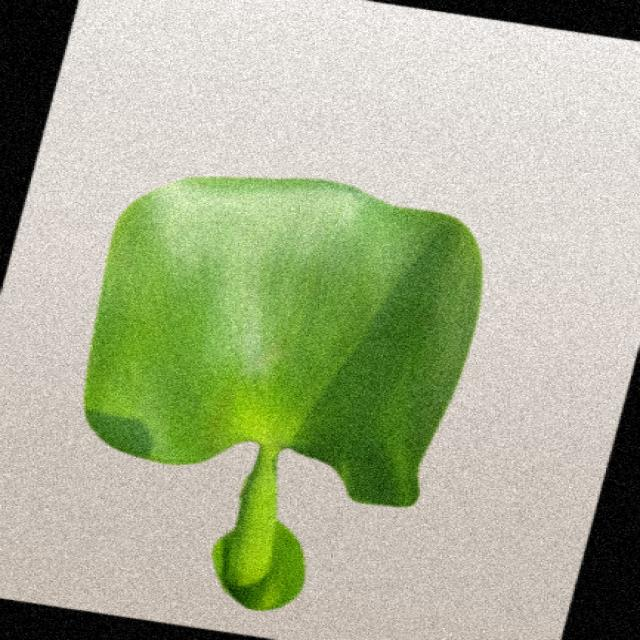daun sehat: (85, 178, 481, 611)
